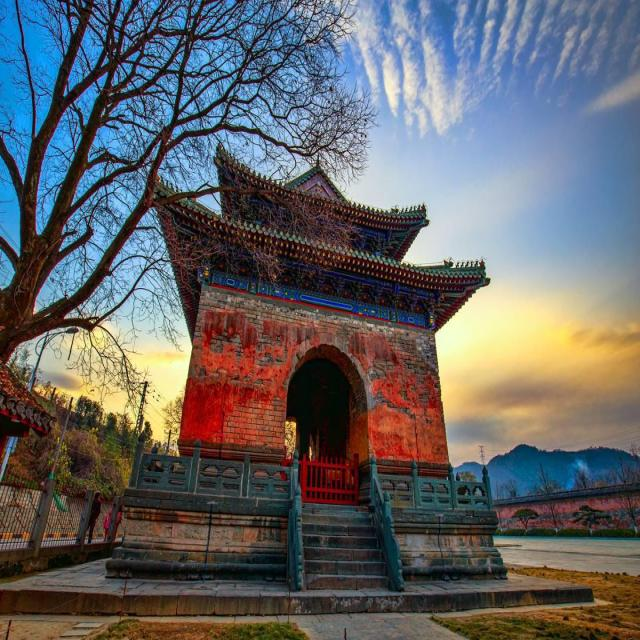other: (179, 265, 467, 486), (481, 314, 639, 390)
